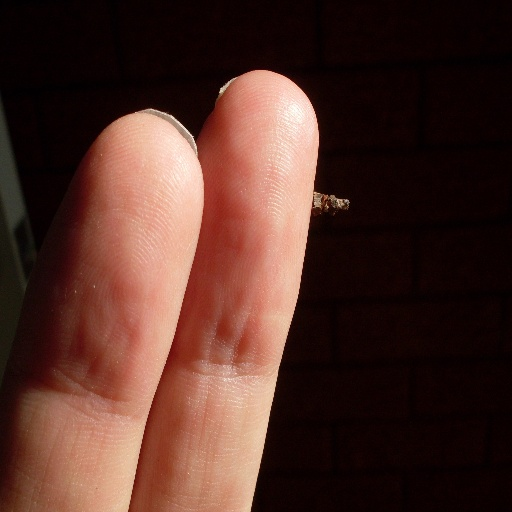hand: (0, 67, 318, 511)
